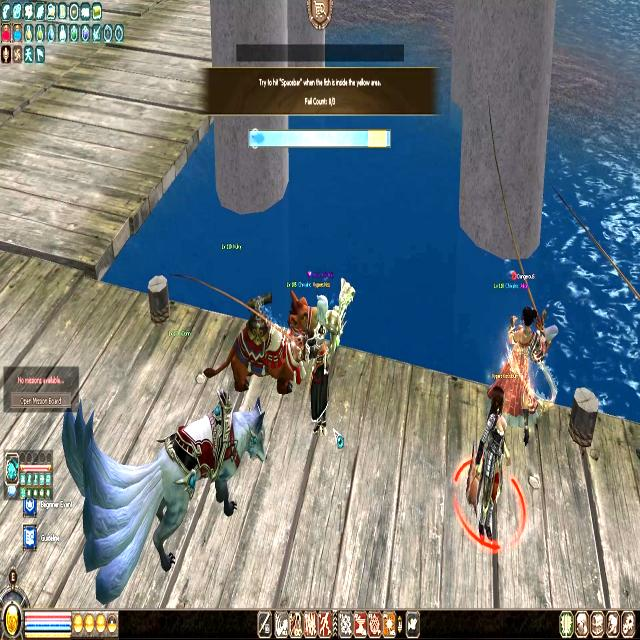fishes: (250, 128, 264, 147)
